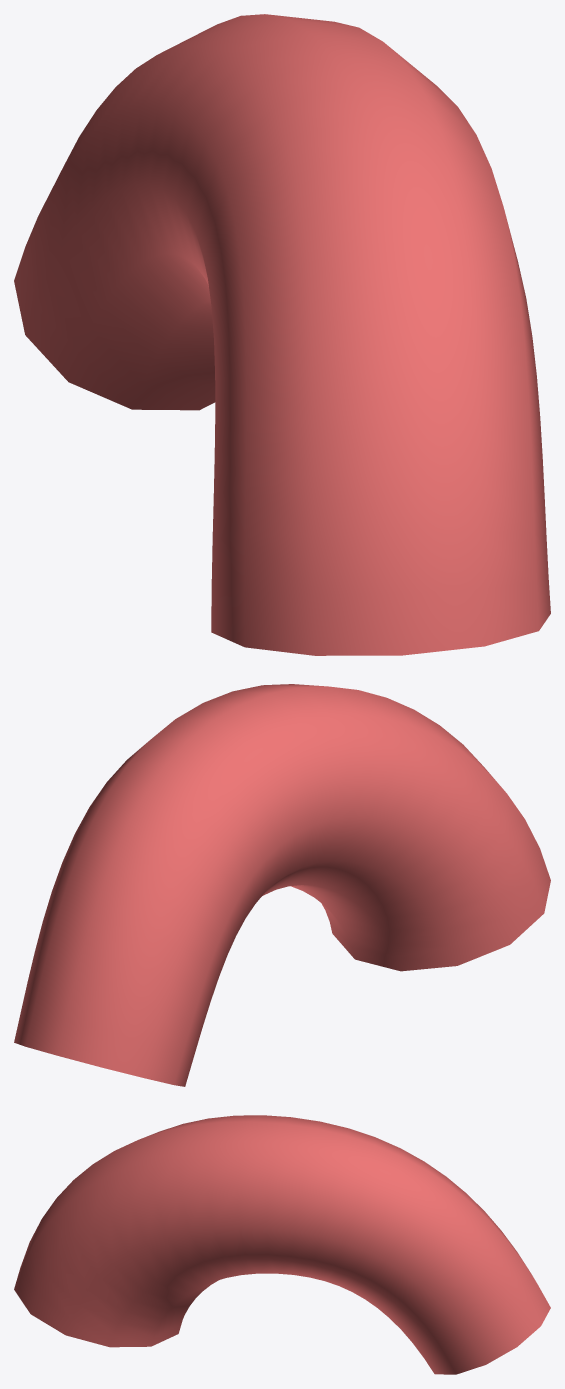
The model's file is Aortic_arch.glb.
The picture shows the model from 3 angles, top to bottom: view 1: azimuth 30°, elevation 25°; view 2: azimuth 150°, elevation 25°; view 3: azimuth 270°, elevation 25°; orthographic projection. The views are drawn at different scales.
Parts seen in each view (by area): view 1: Aortic_arch_BezierCurve.191; view 2: Aortic_arch_BezierCurve.191; view 3: Aortic_arch_BezierCurve.191.
Boxes of the visible parts, x1,y1,x2,y2 form: Aortic_arch_BezierCurve.191: (14,14,550,655); Aortic_arch_BezierCurve.191: (14,684,550,1086); Aortic_arch_BezierCurve.191: (14,1115,550,1374).
Size of the model in its own units: 0.0397 by 0.0415 by 0.0852.
